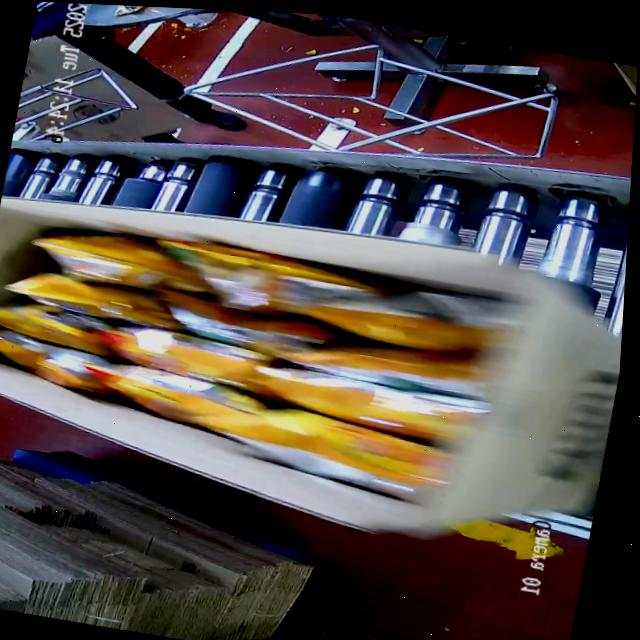FRENCH_CHEESE: (0, 200, 521, 474)
